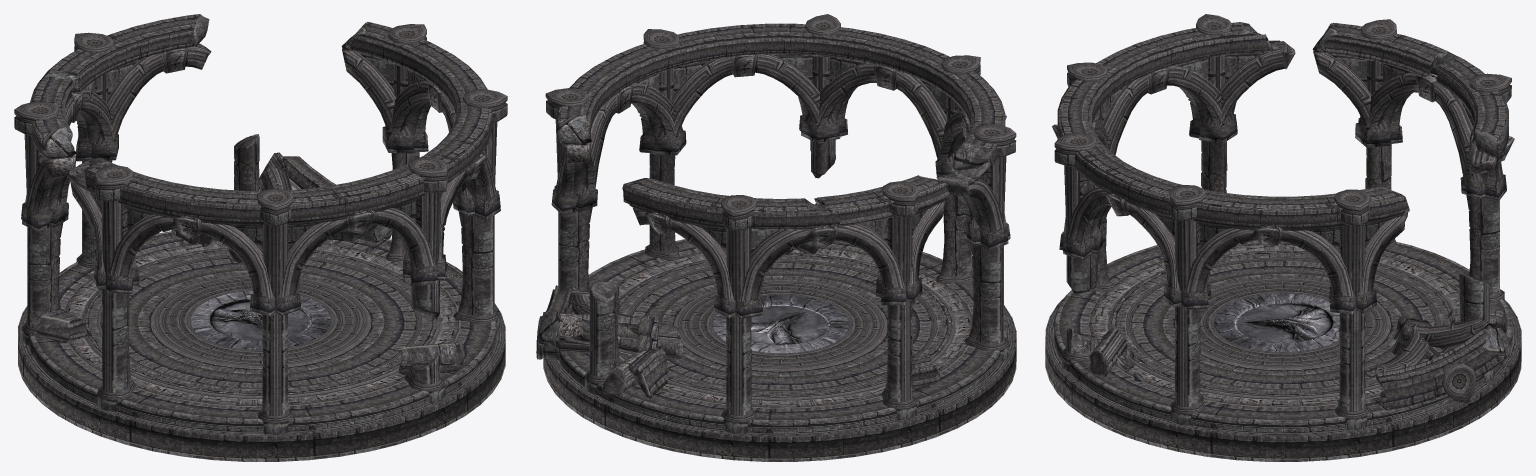
The model's file is UmbralShrine_Monument_Low.fbx.
The picture shows the model from 3 angles, left to right: view 1: azimuth 30°, elevation 25°; view 2: azimuth 150°, elevation 25°; view 3: azimuth 270°, elevation 25°; orthographic projection. The views are drawn at different scales.
Parts seen in each view (by area): view 1: Shrine_Floor_Low, polySurface76, polySurface72, polySurface137, polySurface143, polySurface142, polySurface145, polySurface141, polySurface144, FloorCentre_Low, polySurface152, polySurface162 (+18 smaller); view 2: Shrine_Floor_Low, polySurface76, polySurface72, polySurface146, polySurface144, polySurface149, polySurface143, polySurface136, FloorCentre_Low, polySurface141, polySurface93, polySurface147 (+24 smaller); view 3: Shrine_Floor_Low, polySurface76, polySurface72, FloorCentre_Low, polySurface147, polySurface145, polySurface93, polySurface149, pasted__polySurface173, polySurface142, polySurface136, polySurface152 (+19 smaller).
Boxes of the visible parts, bbox=[...] form: Shrine_Floor_Low: bbox=[63, 240, 460, 406]; polySurface76: bbox=[18, 231, 505, 461]; polySurface72: bbox=[84, 22, 491, 221]; polySurface137: bbox=[257, 188, 293, 434]; polySurface143: bbox=[95, 165, 135, 411]; polySurface142: bbox=[106, 214, 275, 316]; polySurface145: bbox=[453, 89, 507, 331]; polySurface141: bbox=[276, 208, 437, 315]; polySurface144: bbox=[14, 101, 62, 345]; FloorCentre_Low: bbox=[190, 290, 331, 350]; polySurface152: bbox=[404, 157, 447, 402]; polySurface162: bbox=[69, 14, 209, 75]; Shrine_Floor_Low: bbox=[616, 247, 972, 408]; polySurface76: bbox=[543, 239, 1016, 461]; polySurface72: bbox=[556, 23, 1005, 174]; polySurface146: bbox=[721, 195, 756, 433]; polySurface144: bbox=[881, 181, 918, 420]; polySurface149: bbox=[737, 223, 906, 318]; polySurface143: bbox=[964, 123, 1016, 361]; polySurface136: bbox=[652, 54, 840, 155]; FloorCentre_Low: bbox=[712, 295, 849, 353]; polySurface141: bbox=[801, 63, 954, 176]; polySurface93: bbox=[554, 82, 686, 211]; polySurface147: bbox=[545, 88, 592, 292]; Shrine_Floor_Low: bbox=[1087, 242, 1459, 407]; polySurface76: bbox=[1045, 240, 1521, 461]; polySurface72: bbox=[1057, 22, 1409, 226]; FloorCentre_Low: bbox=[1214, 293, 1339, 351]; polySurface147: bbox=[1334, 189, 1370, 429]; polySurface145: bbox=[1169, 185, 1205, 425]; polySurface93: bbox=[1182, 226, 1355, 314]; polySurface149: bbox=[1355, 72, 1485, 198]; pasted__polySurface173: bbox=[1378, 323, 1506, 410]; polySurface142: bbox=[1102, 65, 1237, 155]; polySurface136: bbox=[1063, 187, 1211, 307]; polySurface152: bbox=[1054, 132, 1099, 371].
Size of the model in its own units: 1167 by 677 by 1167.
